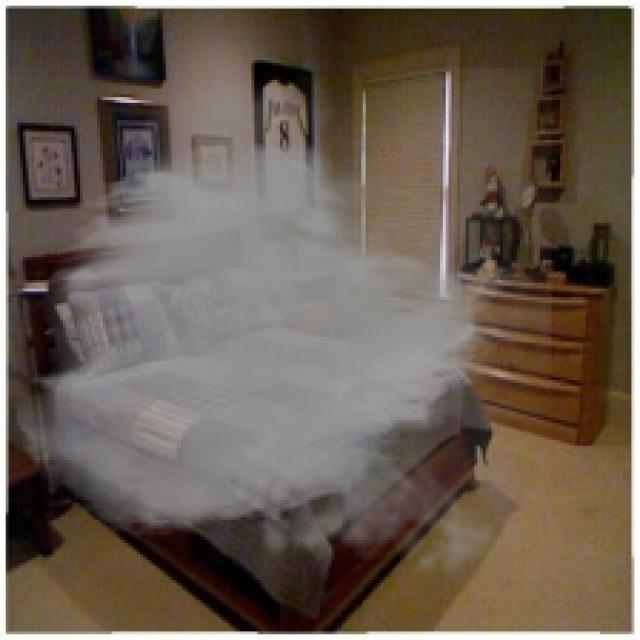smoke: (11, 69, 552, 592)
